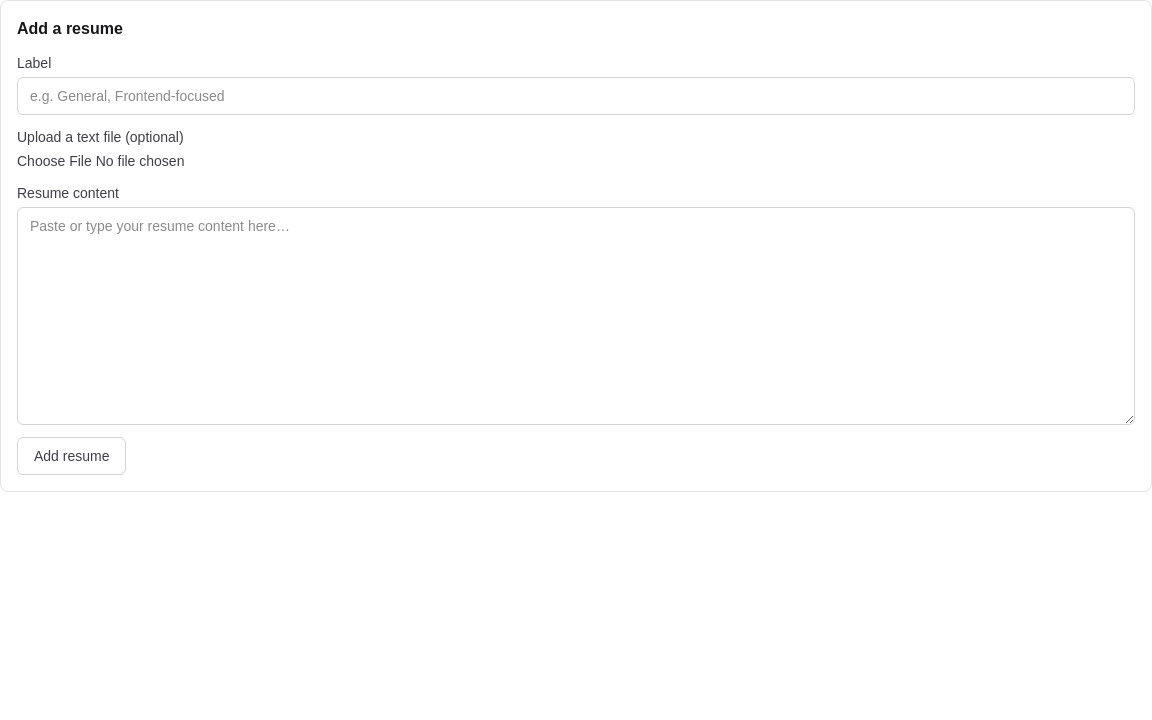
Test: ResumeUploadForm › shows a friendly error message on failure
The width and height of the screenshot is (1152, 720).
Type "General" into the field labelled "Label". click: [576, 96]
box: 17,77 -> 1135,115
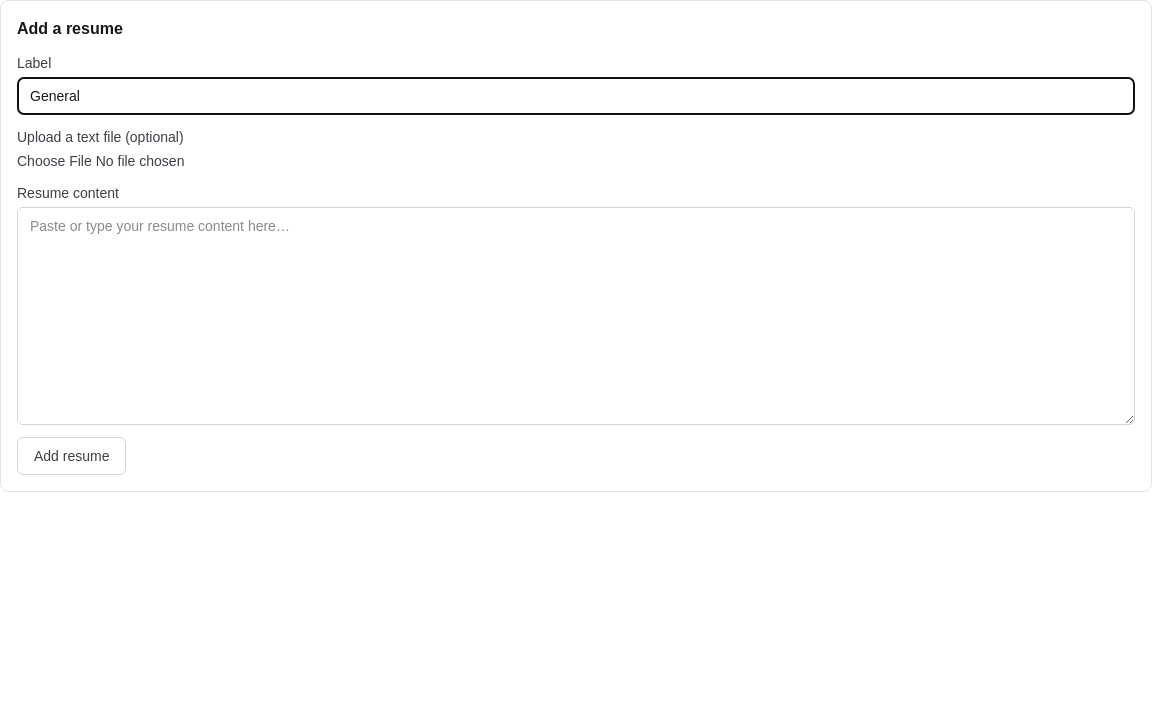
Type "content" into the text box labelled "Resume content". click: [576, 316]
box: 17,207 -> 1135,425
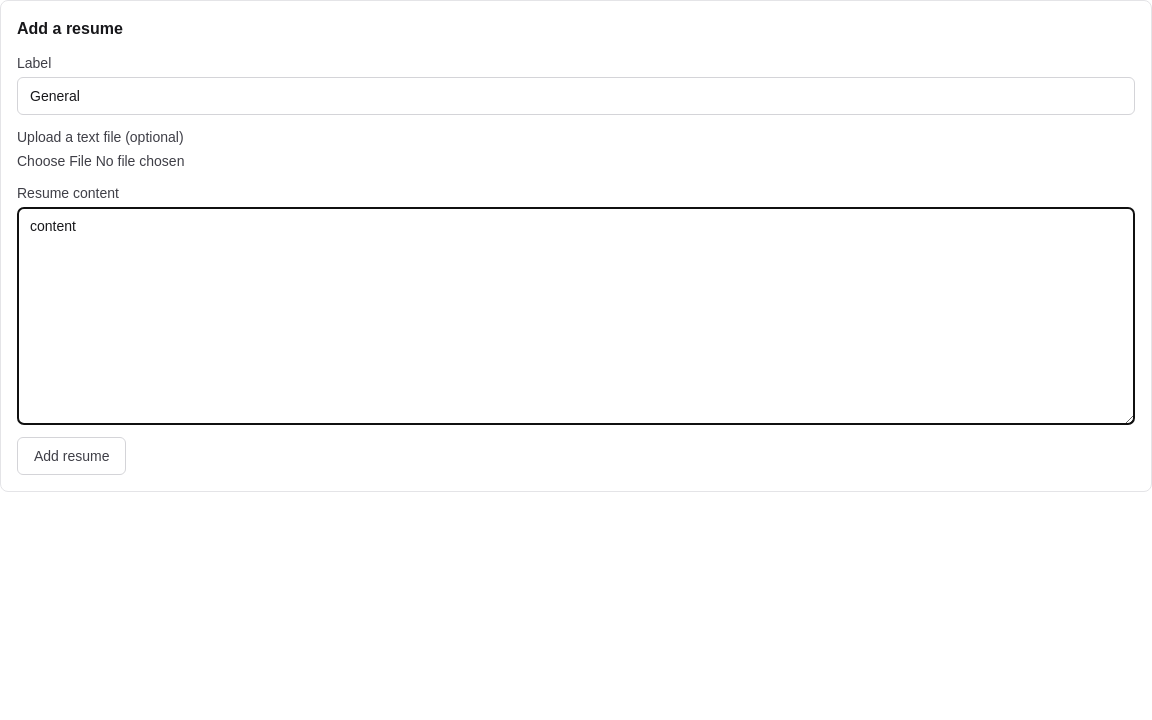
Click the button "Add resume". click: [72, 456]
box: 17,437 -> 126,475
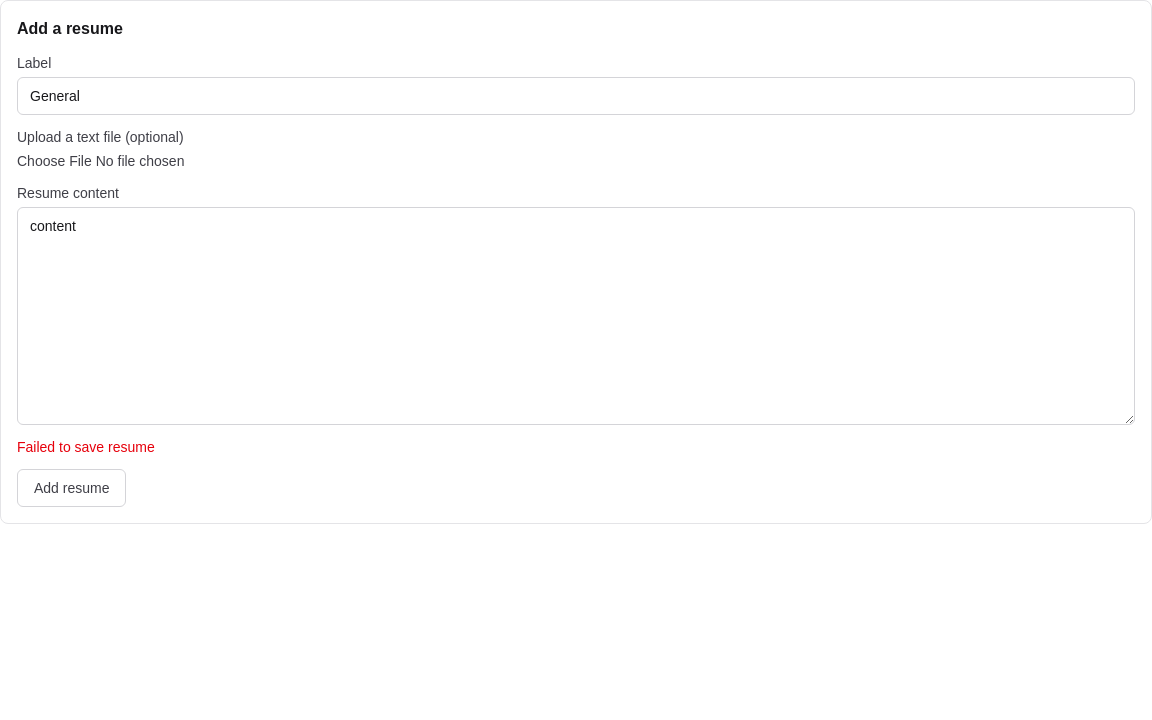
Now the text "Failed to save resume" is shown, box 17,439 -> 155,455
